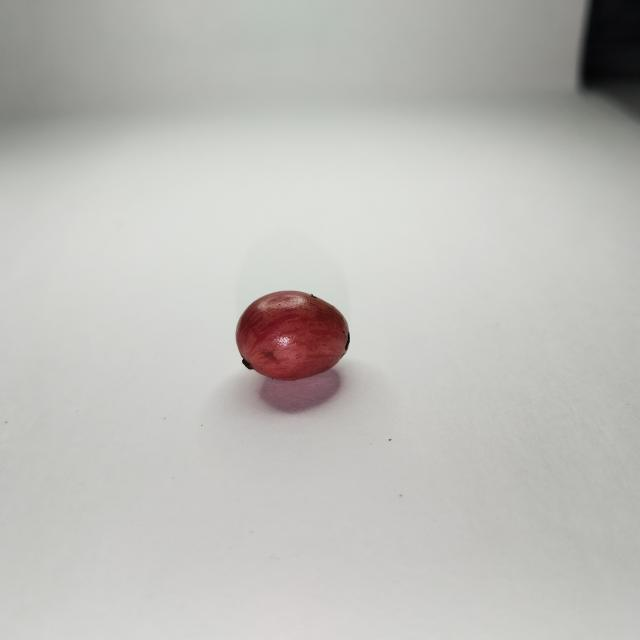Sano: (236, 291, 349, 381)
